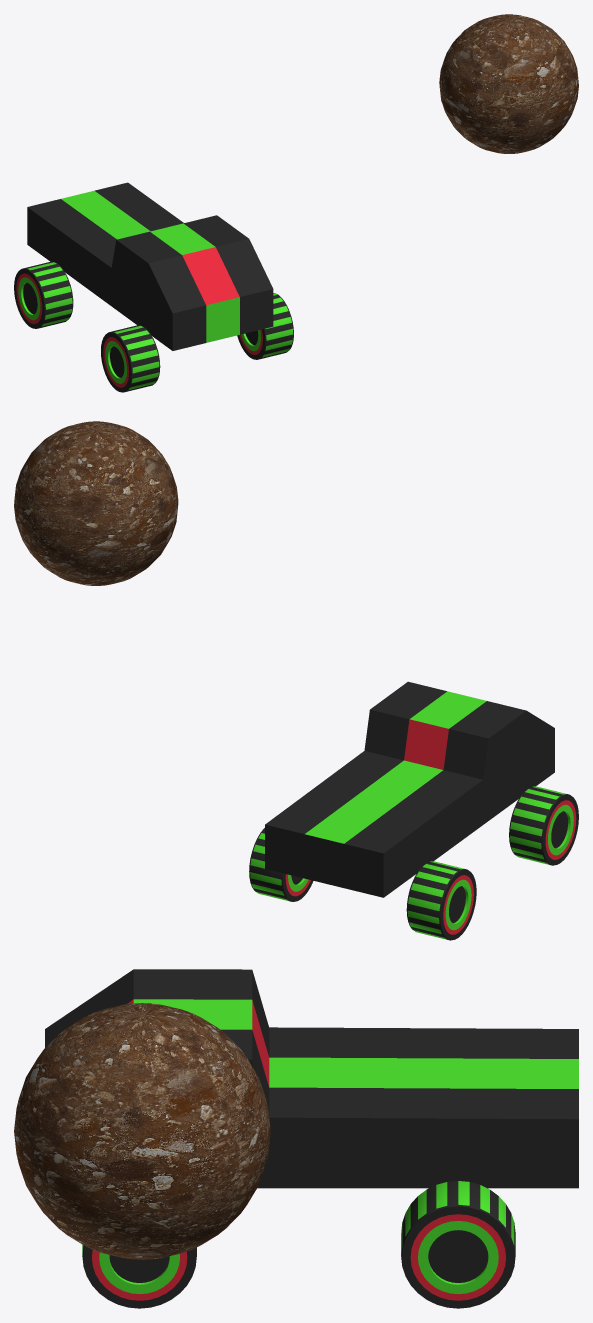
File: cube_bot.glb
The picture shows the model from 3 angles, top to bottom: view 1: azimuth 30°, elevation 25°; view 2: azimuth 150°, elevation 25°; view 3: azimuth 270°, elevation 25°; orthographic projection. The views are drawn at different scales.
Visible parts, largest first — view 1: car_body, ball, wheel_right_rear, wheel_right_front, wheel_left_front; view 2: car_body, ball, wheel_right_rear, wheel_right_front, wheel_left_rear; view 3: car_body, ball, wheel_left_rear, wheel_left_front.
Boxes of the visible parts, left/top/right/bottom form: car_body: left=27, top=182, right=273, bottom=350; ball: left=439, top=14, right=578, bottom=153; wheel_right_rear: left=14, top=261, right=73, bottom=328; wheel_right_front: left=101, top=325, right=160, bottom=392; wheel_left_front: left=237, top=293, right=293, bottom=359; car_body: left=265, top=681, right=554, bottom=897; ball: left=14, top=421, right=178, bottom=585; wheel_right_rear: left=406, top=861, right=476, bottom=940; wheel_right_front: left=509, top=786, right=578, bottom=865; wheel_left_rear: left=249, top=828, right=313, bottom=901; car_body: left=45, top=969, right=578, bottom=1188; ball: left=14, top=1003, right=270, bottom=1259; wheel_left_rear: left=401, top=1180, right=515, bottom=1308; wheel_left_front: left=82, top=1244, right=196, bottom=1308.
Size of what is drawn, in the model's own units: 5.05 by 2.9 by 2.96.
4 materials, 1 textured.
